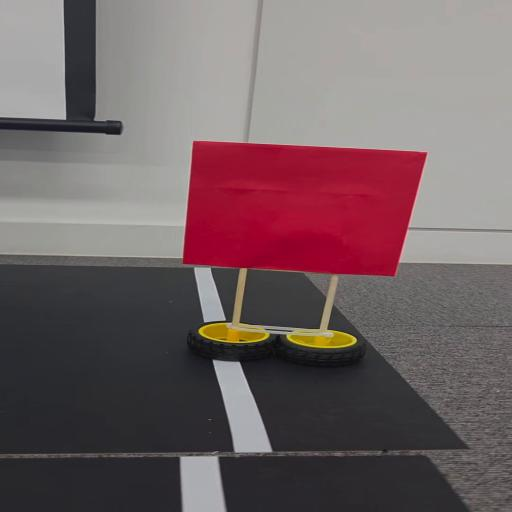Sign_A: (168, 135, 432, 372)
